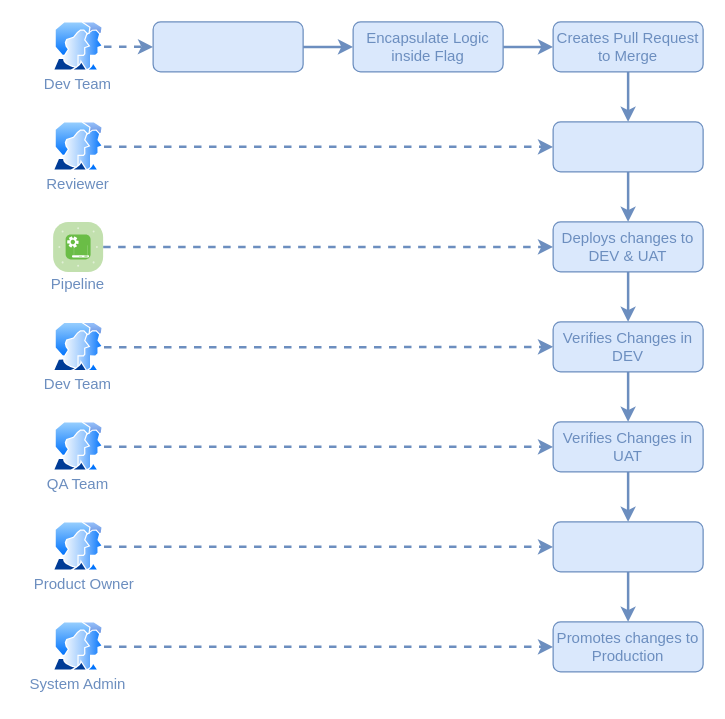
Some shapes in this 725 by 719 pixel diagram are drawn without their labels. The centre of each missing label's shape, as x and y in pixels:
Approves Pull Request & Merge: (x=627, y=146)
Creates Feature Flags in all Envs: (x=227, y=46)
Requests to promote changes in Prod: (x=627, y=546)
